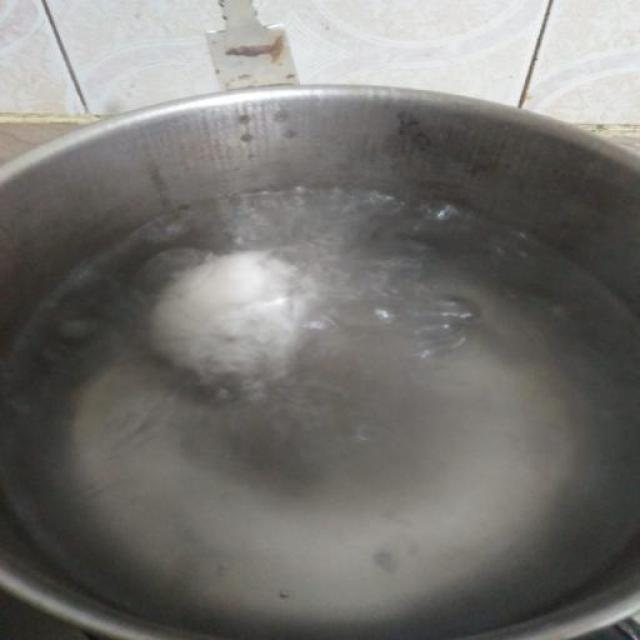telur: (154, 250, 310, 379)
